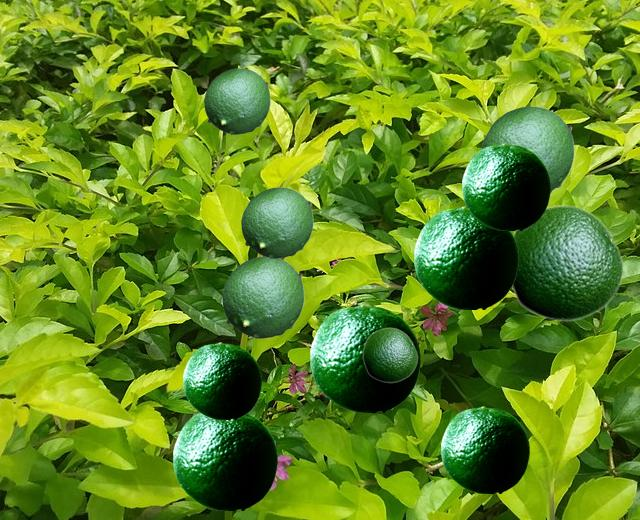calamansi: (511, 204, 623, 321), (310, 304, 419, 411), (414, 206, 517, 308), (173, 412, 276, 509), (481, 106, 573, 194), (441, 406, 528, 492), (462, 143, 549, 229), (222, 256, 303, 337), (183, 342, 260, 418), (241, 187, 312, 257), (204, 68, 269, 133), (362, 327, 417, 382)
